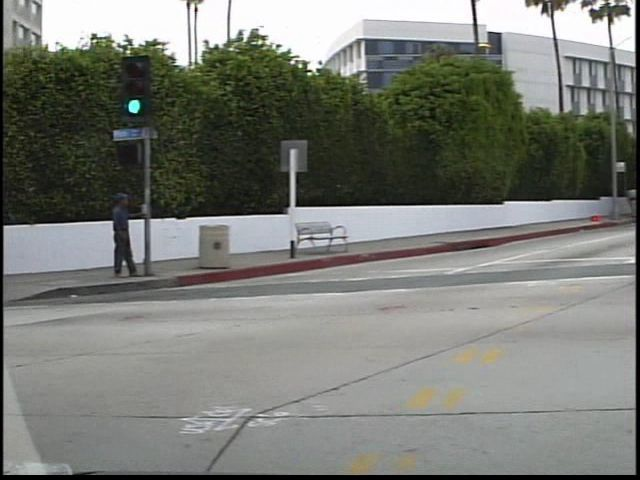person: (102, 186, 141, 282)
